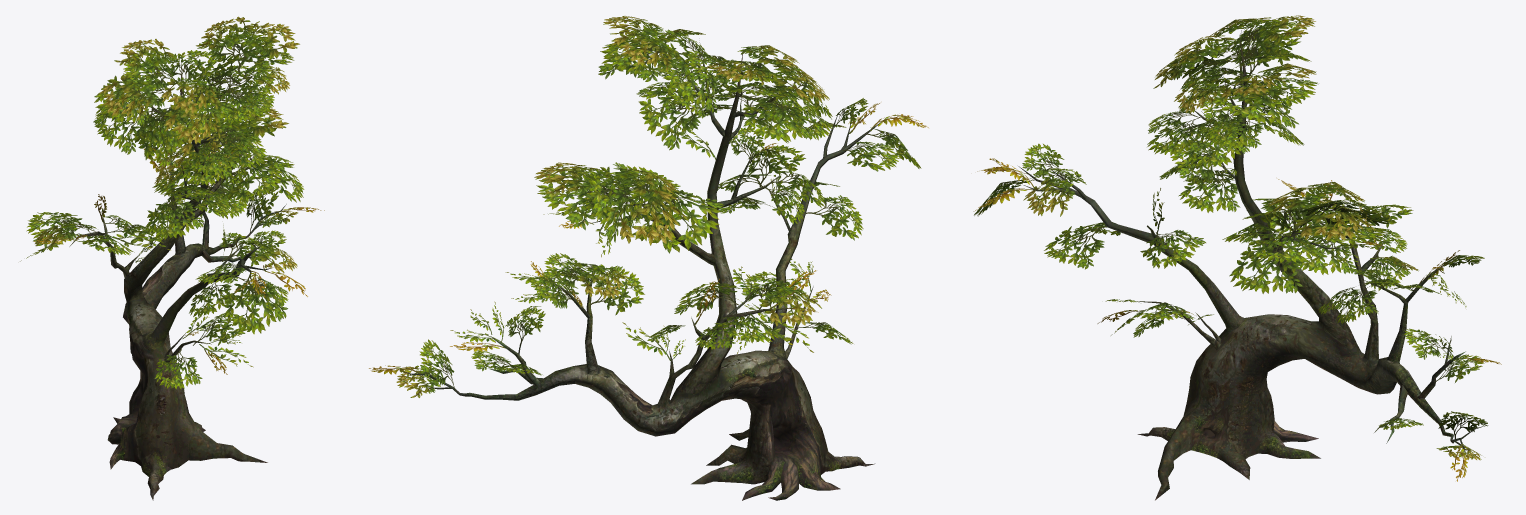
File: c5_tree_5.FBX
3 views of the same model, side by side, from view 1: azimuth 30°, elevation 25°; view 2: azimuth 150°, elevation 25°; view 3: azimuth 270°, elevation 25° (orthographic). The views are drawn at different scales.
Visible parts, largest first — view 1: C5_tree_3, C5_tree_4; view 2: C5_tree_3, C5_tree_4; view 3: C5_tree_3, C5_tree_4.
Boxes of the visible parts, x1,y1,x2,y2 form: C5_tree_3: (20, 16, 324, 389); C5_tree_4: (69, 67, 286, 500); C5_tree_3: (369, 16, 928, 397); C5_tree_4: (400, 42, 883, 500); C5_tree_3: (973, 15, 1501, 481); C5_tree_4: (1018, 30, 1488, 500).
Bounding box in the file's own units: 530 × 558 × 619.
